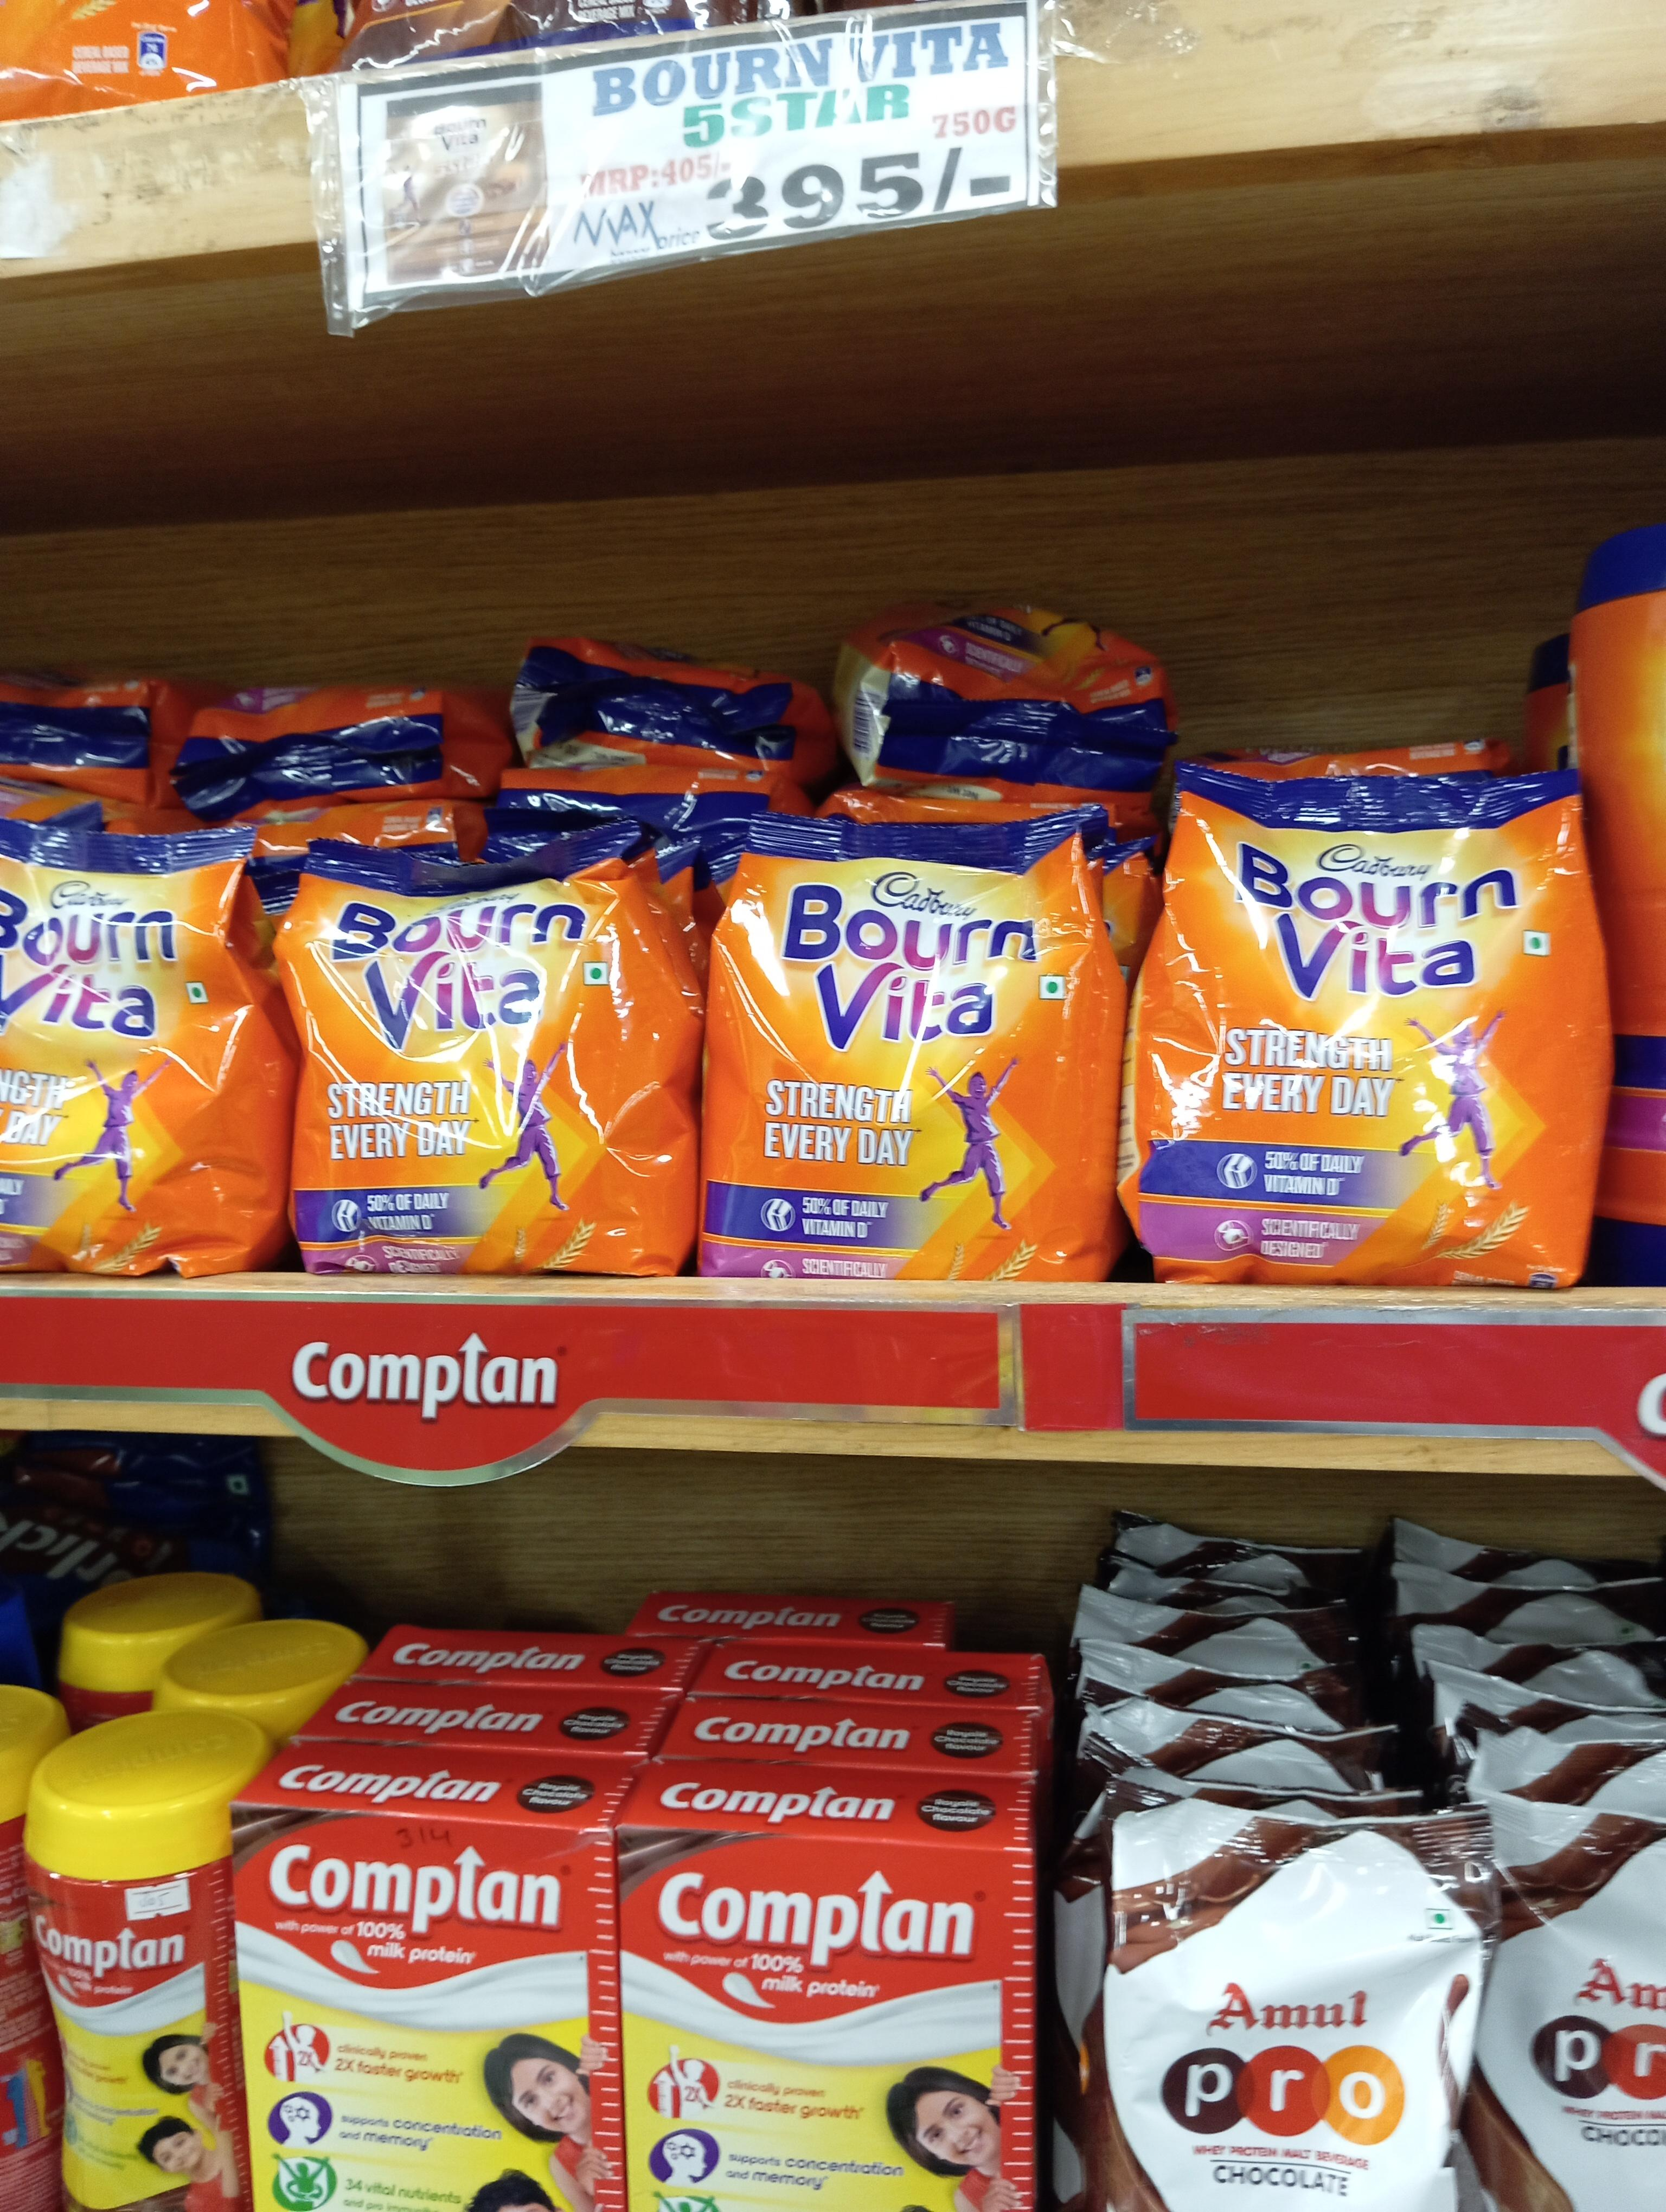BOURN_VITA_500_G_POUCH: (1130, 754, 1605, 1297), (712, 822, 1104, 1299), (285, 834, 683, 1273), (0, 810, 273, 1287)
COMPLAN_CHOCOLATE_500_GMS_JAR: (26, 1778, 240, 2212)
COMPLAN_CHOCOLATE_500_GMS_PACK: (625, 1827, 1038, 2212), (256, 1810, 614, 2212)
